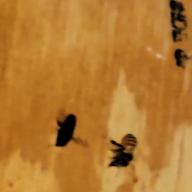Bee: (99, 130, 150, 177)
